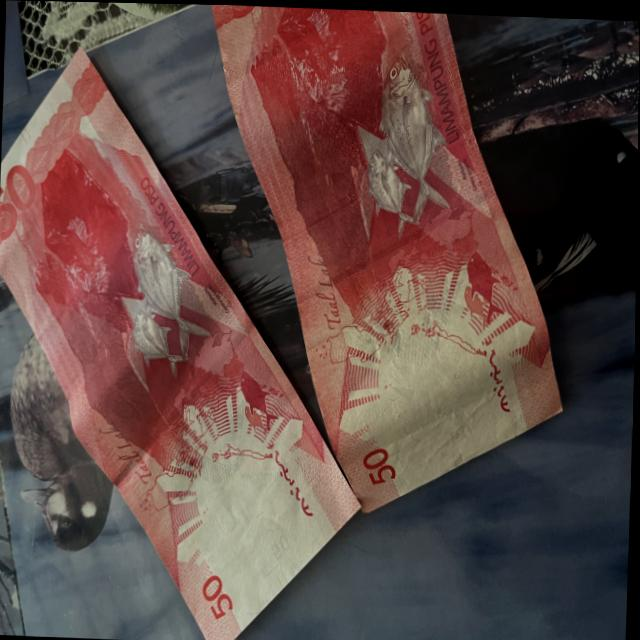50_maliputo: (356, 65, 449, 238), (116, 224, 207, 382)
50_maliputo_watermark: (458, 251, 513, 336), (233, 360, 282, 450)
value_watermark: (263, 519, 298, 565)
watermark: (209, 458, 299, 581)
